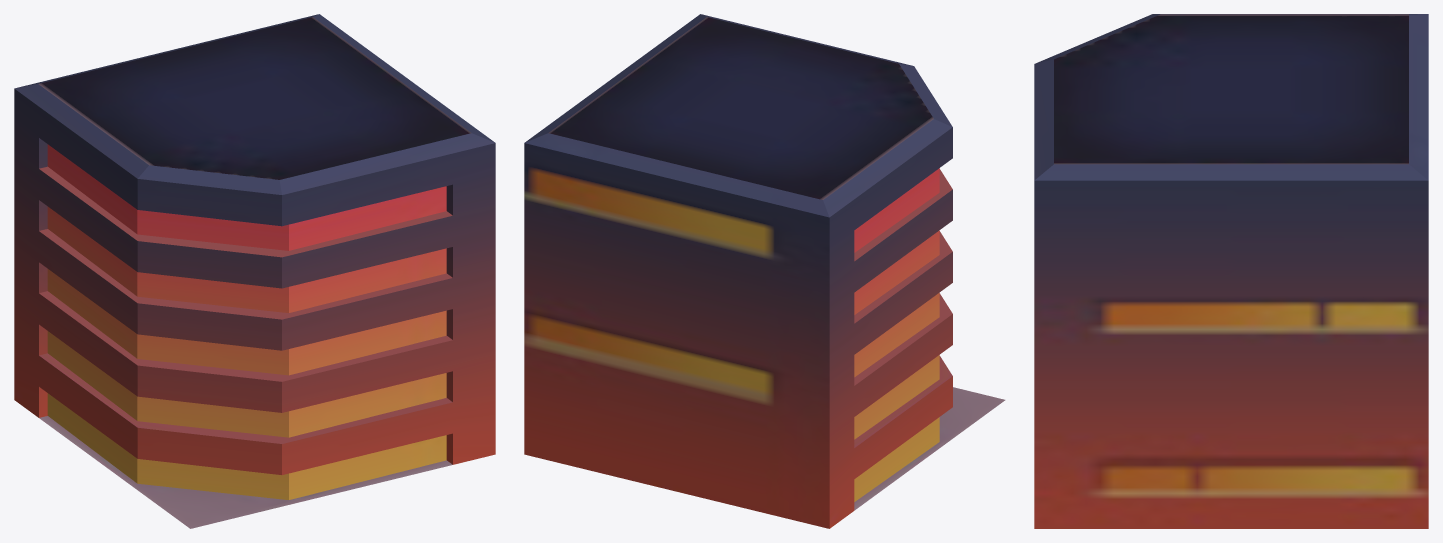
The model's file is build01.FBX.
3 renders of one model, left to right at view 1: azimuth 30°, elevation 25°; view 2: azimuth 150°, elevation 25°; view 3: azimuth 270°, elevation 25°, orthographic. The views are drawn at different scales.
Visible parts, largest first — view 1: build01; view 2: build01; view 3: build01.
Boxes of the visible parts, x1,y1,x2,y2 form: build01: (14,14,495,528); build01: (524,14,1005,528); build01: (1034,14,1428,528).
Bounding box in the file's own units: 1 × 1 × 0.9973.
Materials: 1 (1 with a texture image).
